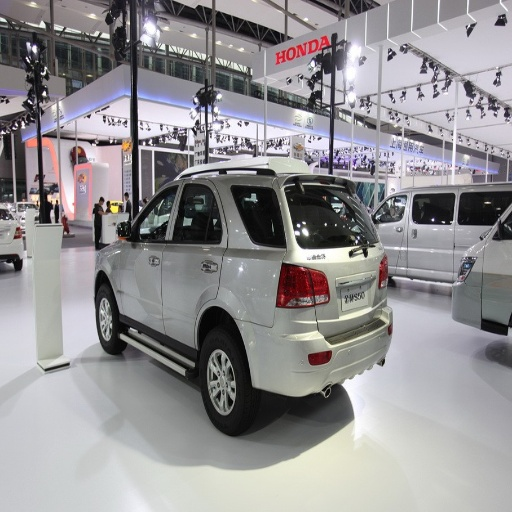back_bumper: (246, 305, 392, 397)
back_glass: (233, 187, 365, 246)
back_left_door: (162, 176, 226, 345)
trunk: (306, 250, 380, 335)
